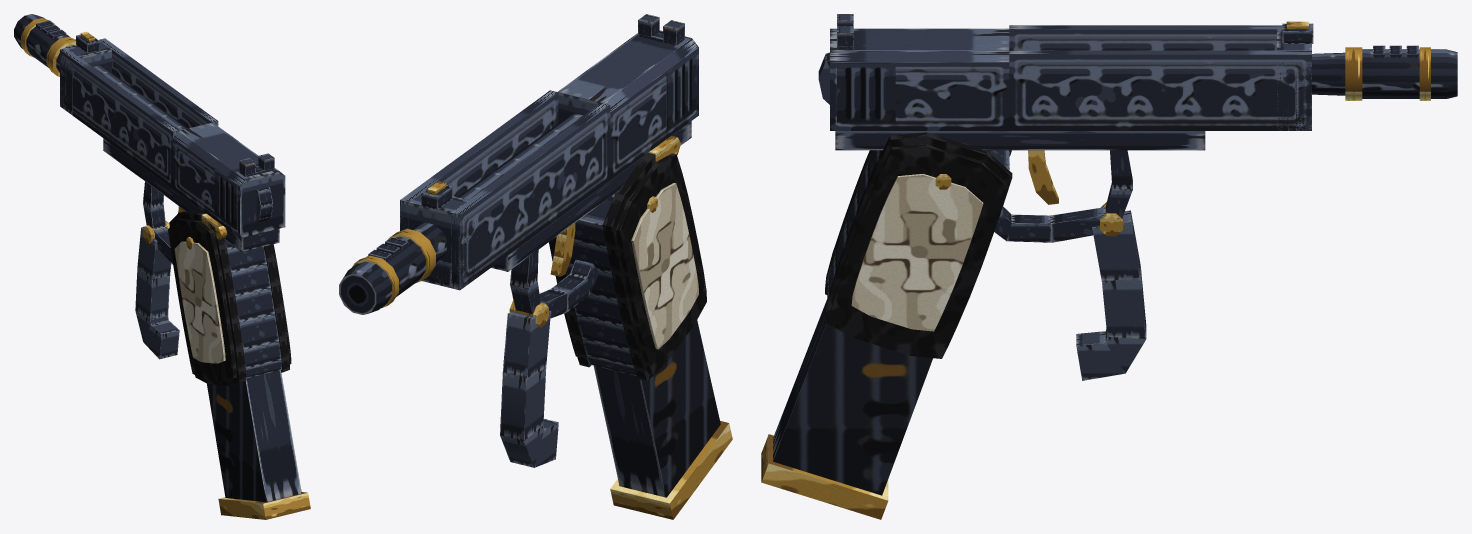
The model's file is pistol_machine_base.glb.
The picture shows the model from 3 angles, left to right: view 1: azimuth 30°, elevation 25°; view 2: azimuth 150°, elevation 25°; view 3: azimuth 270°, elevation 25°; orthographic projection. The views are drawn at different scales.
Visible parts, largest first — view 1: frame, slide, magazine; view 2: frame, slide, magazine; view 3: frame, slide, magazine.
Part boxes in pixels (x1,y1,x2,y2): frame: (14,14,291,385); slide: (60,31,285,238); magazine: (207,370,310,519); frame: (339,113,706,467); slide: (400,14,698,290); magazine: (593,320,732,519); frame: (818,45,1457,380); slide: (830,14,1313,130); magazine: (761,299,932,519).
Size of the model in its own units: 0.0344 by 0.1897 by 0.2484.
Materials: 2 (2 with a texture image).
